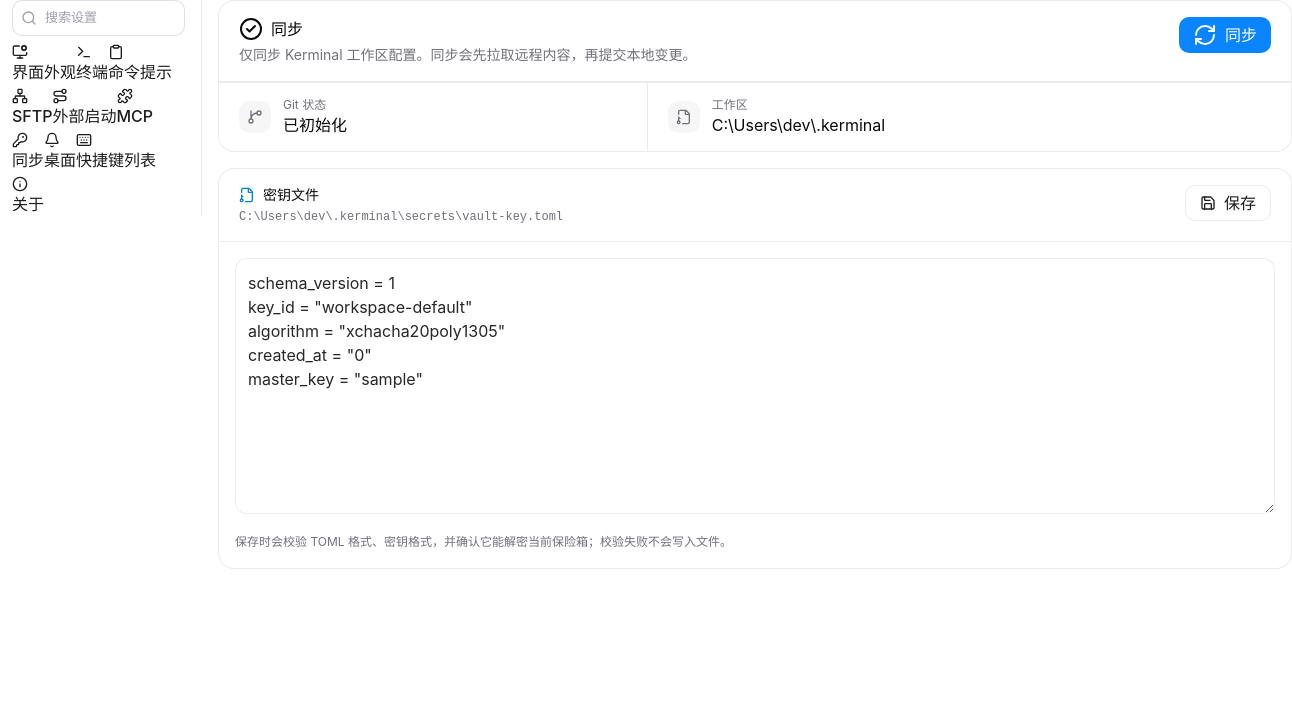
Scenario: SettingsToolContent sync page › runs workspace sync when Git is initialized
Click the button "同步" in the row of "仅同步 Kerminal 工作区配置。同步会先拉取远程内容，再提交本地变更。" at [1225, 35], box [1179,17,1271,53]
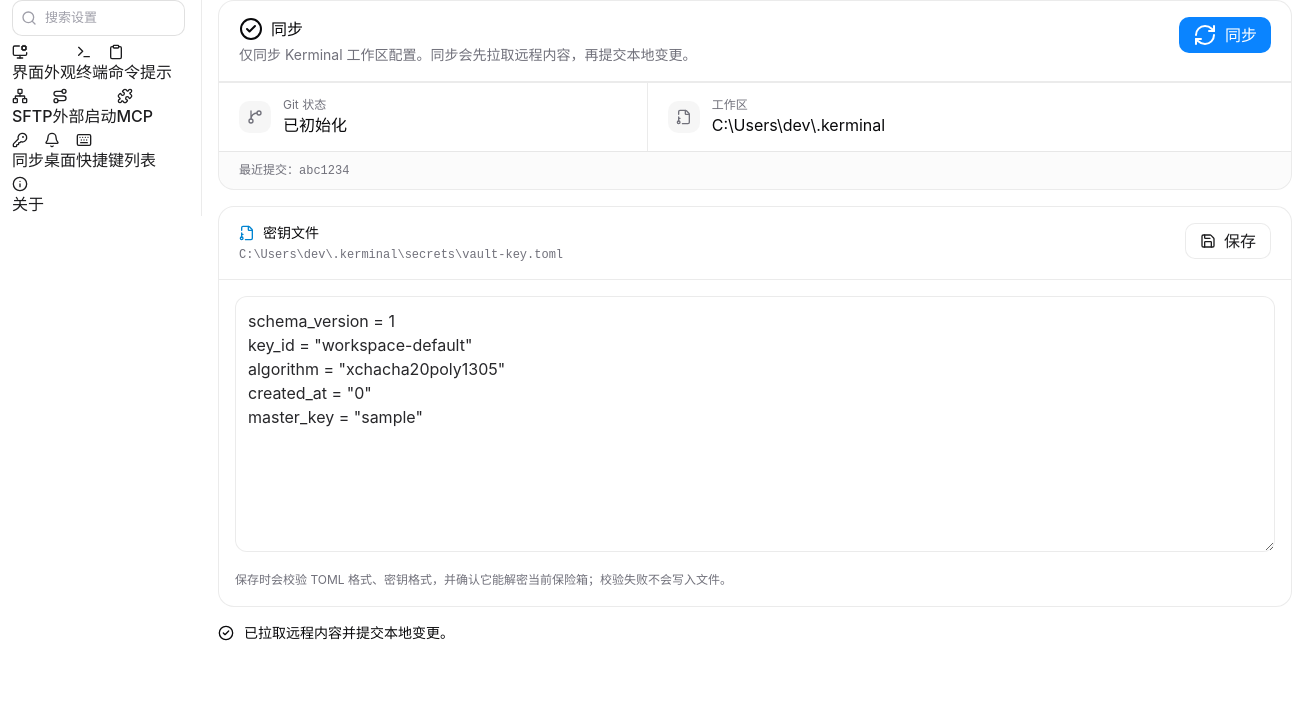
Expected: the text "已拉取远程内容并提交本地变更。" is shown, [244,624,454,641]
Expected: the text "最近提交：" is shown, [239,162,299,177]
Expected: the text "abc1234" is shown, [299,164,349,178]
